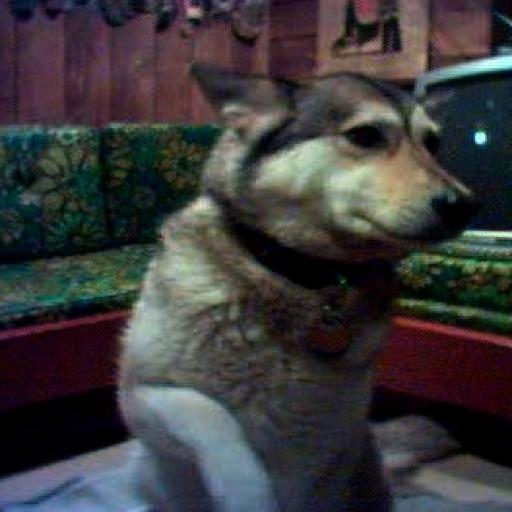dog_face: (183, 62, 494, 262)
